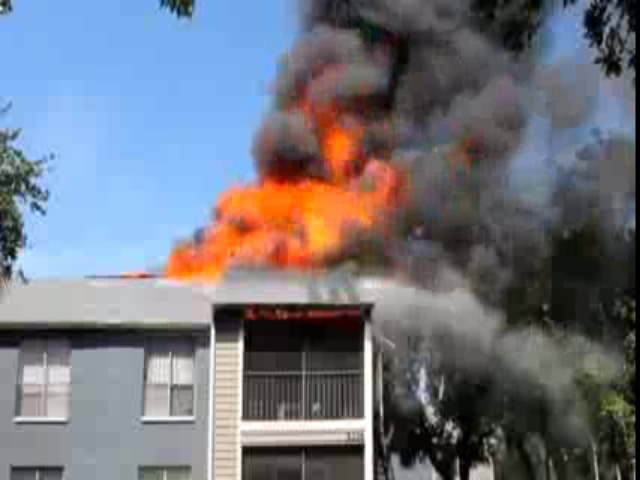fire: (171, 142, 399, 277)
